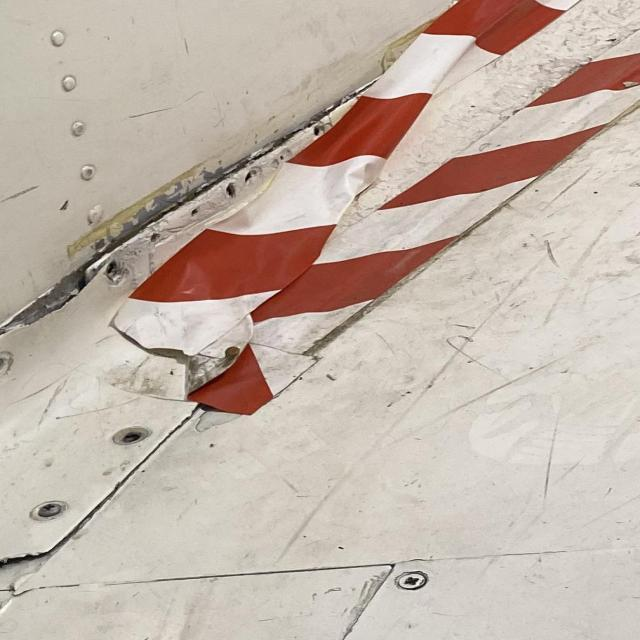Crack: (13, 261, 108, 327), (0, 555, 49, 610)
Missing-head: (112, 427, 150, 446), (0, 351, 15, 378)
Paint-off: (196, 410, 243, 432)
